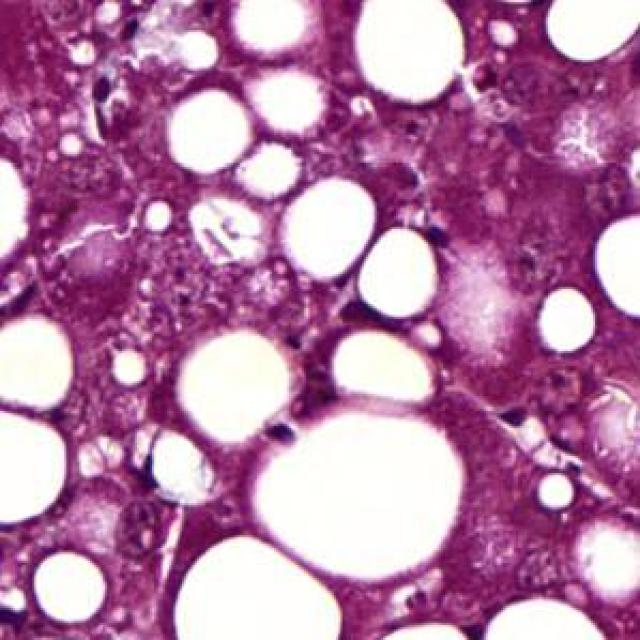steatosis: (167, 325, 293, 439), (285, 176, 381, 284)
